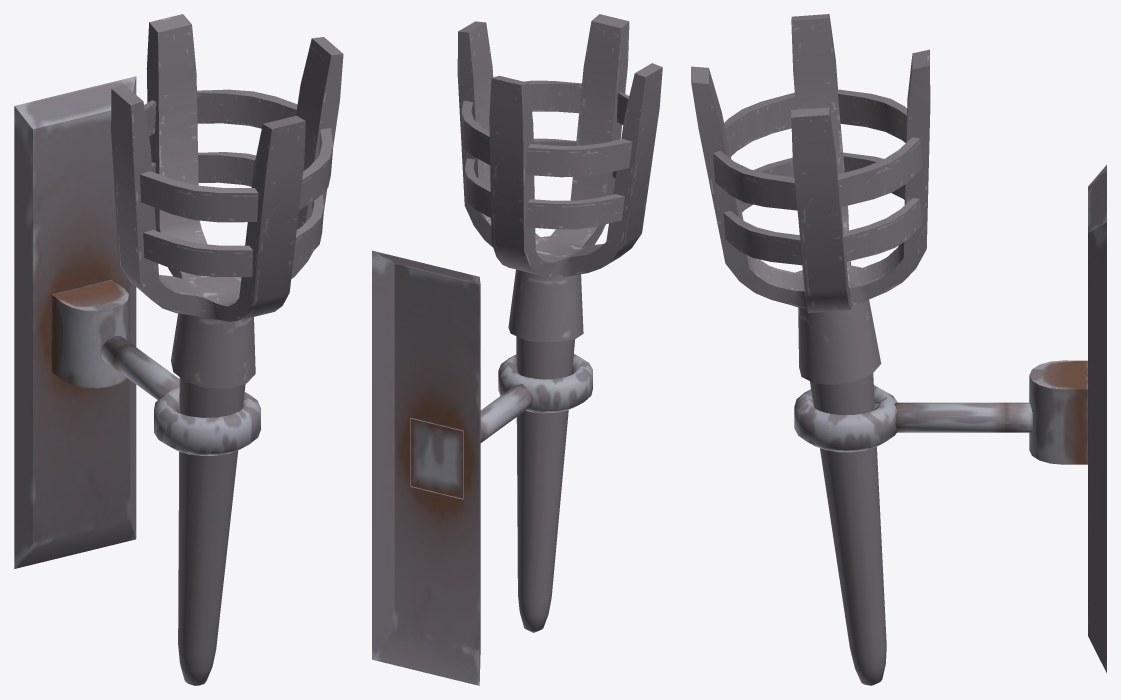
File: torch.glb
3 views of the same model, side by side, from view 1: azimuth 30°, elevation 25°; view 2: azimuth 150°, elevation 25°; view 3: azimuth 270°, elevation 25° (orthographic). The views are drawn at different scales.
Parts seen in each view (by area): view 1: Torch_Metal.001; view 2: Torch_Metal.001; view 3: Torch_Metal.001.
Boxes of the visible parts, x1,y1,x2,y2 form: Torch_Metal.001: (14,14,343,685); Torch_Metal.001: (372,14,662,685); Torch_Metal.001: (691,14,1106,685).
Size of the model in its own units: 0.2232 by 0.6482 by 0.3884.
1 material, 1 textured.
